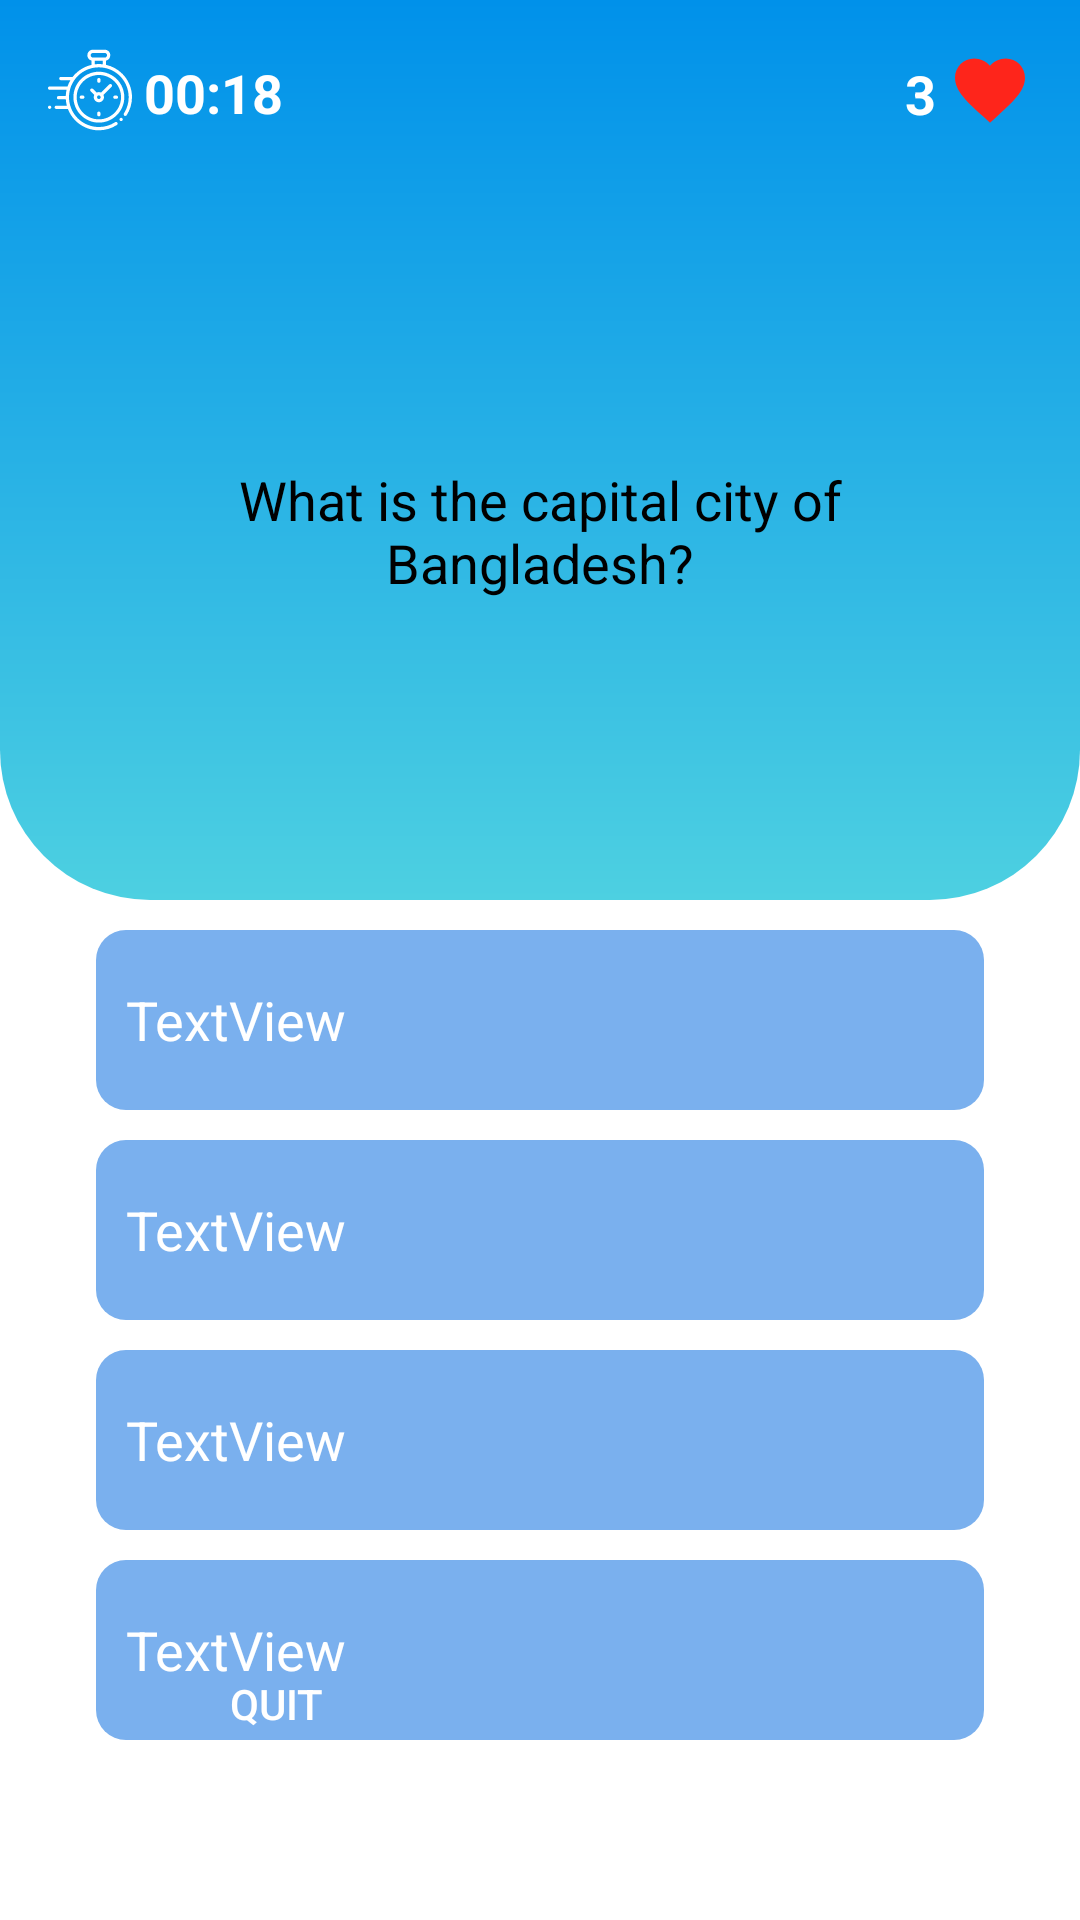

Screen size 1080 × 1920. Icon name, then its center in pixels as (x=x, y=y):
clock: (x=90, y=90)
heart: (x=990, y=90)
